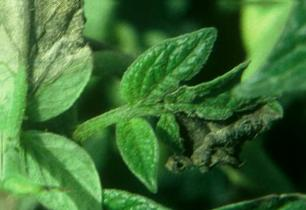Tomato leaf late blight: (0, 0, 177, 190)
